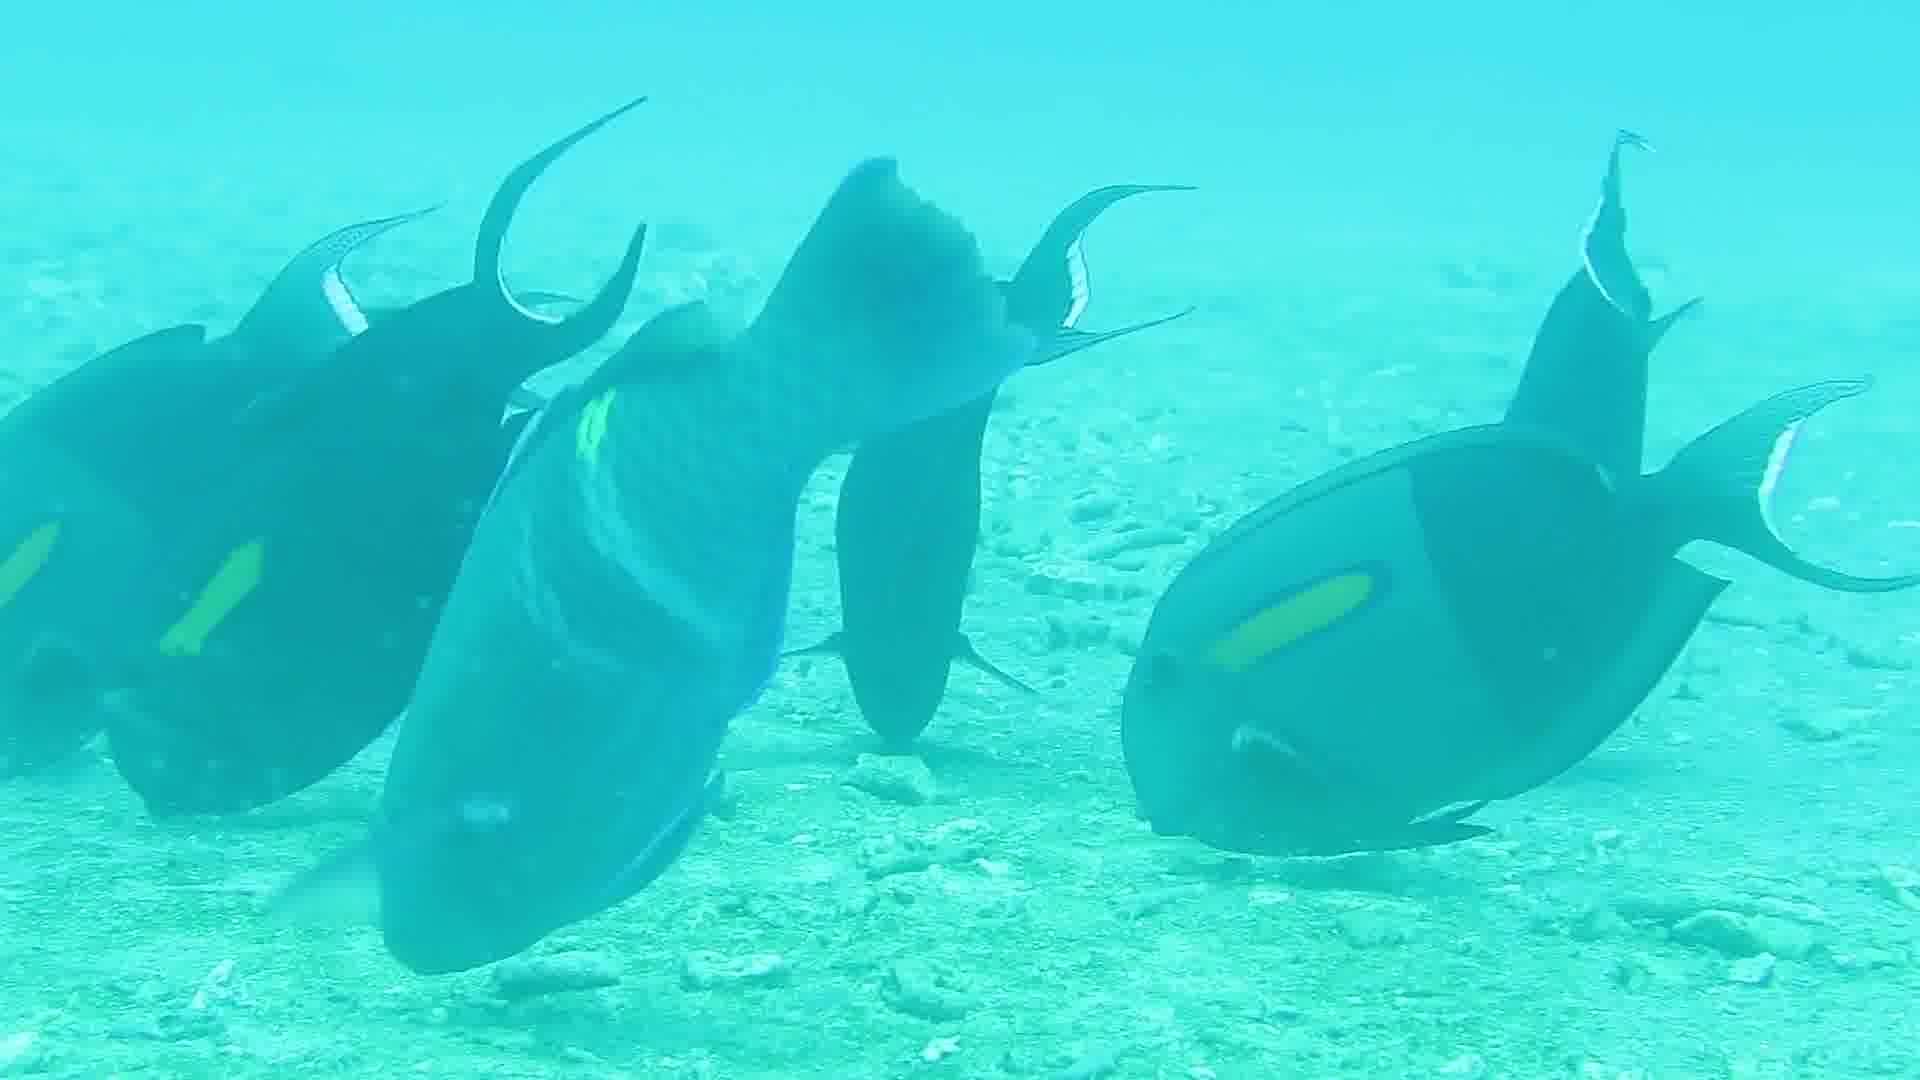Acanthurus olivaceus: (1108, 252, 1883, 851), (363, 164, 810, 973), (3, 191, 338, 791), (843, 165, 1079, 789)
